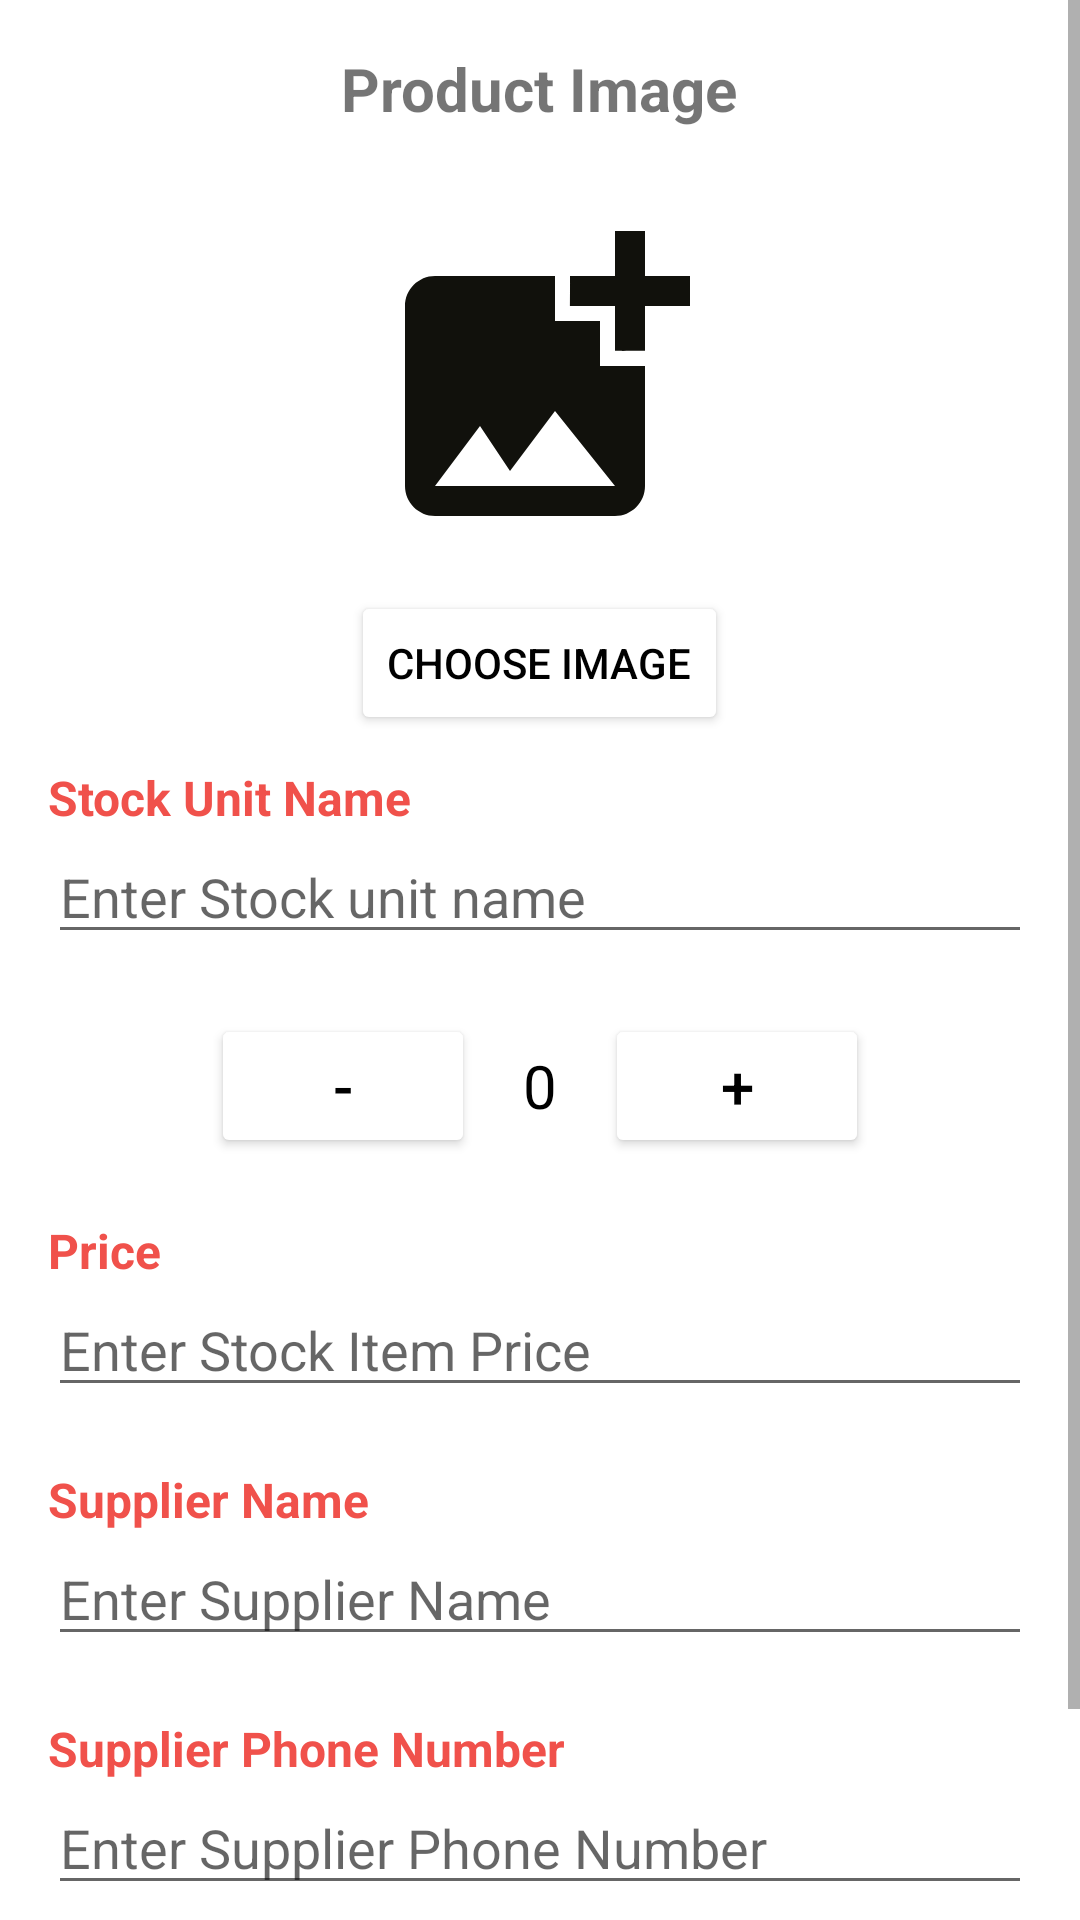

Icons on this 1080px x 1920px Android screen, each with the point to tap as (x=x, y=y):
add photo alternate: (x=547, y=373)
